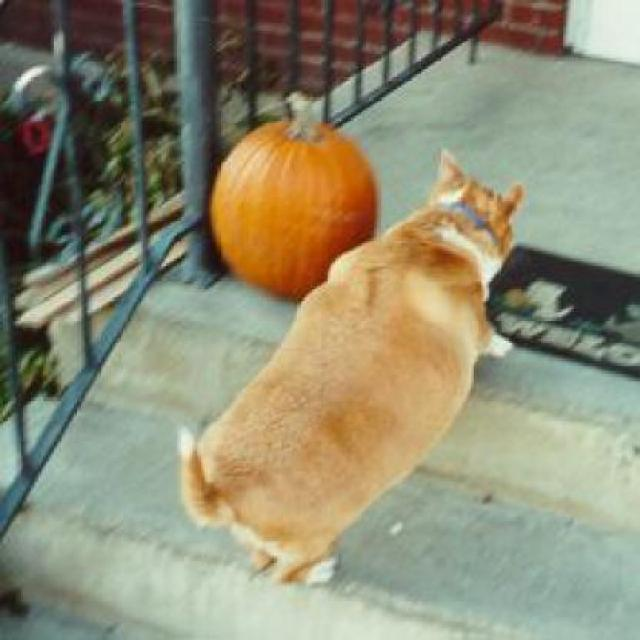Dog: (172, 151, 530, 591)
